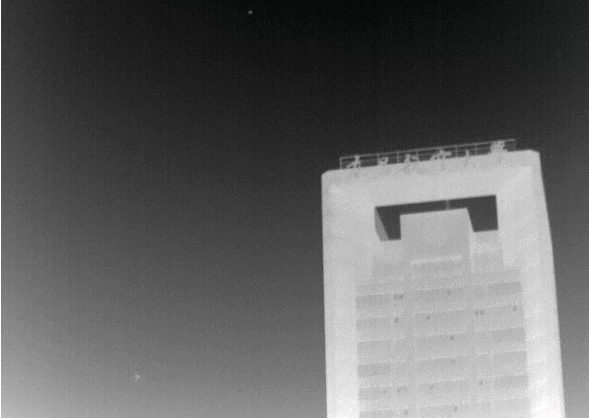dim target: (131, 369, 142, 382), (248, 10, 253, 14)
